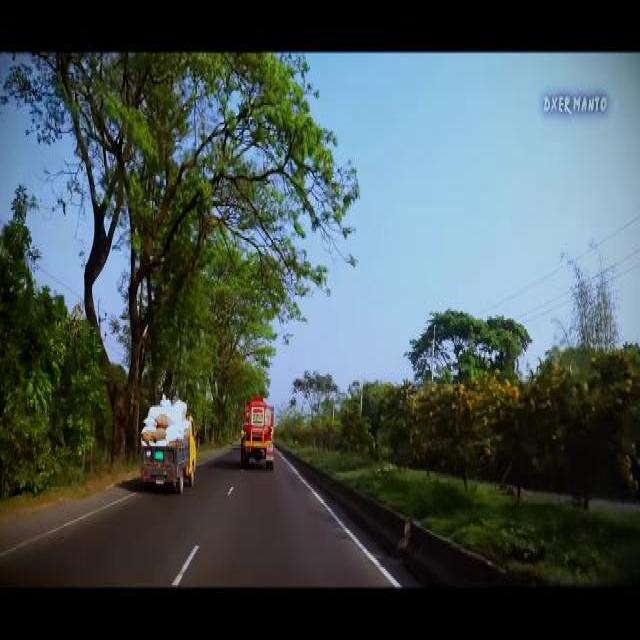pickup: (138, 394, 198, 498)
truck: (239, 393, 275, 471)
